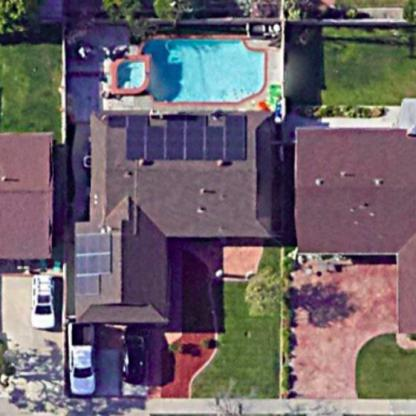car: (63, 318, 103, 398), (113, 324, 155, 389), (27, 269, 60, 332)
solar_panel: (101, 115, 253, 165), (69, 230, 112, 298)
swimming_pool: (106, 31, 272, 108)
